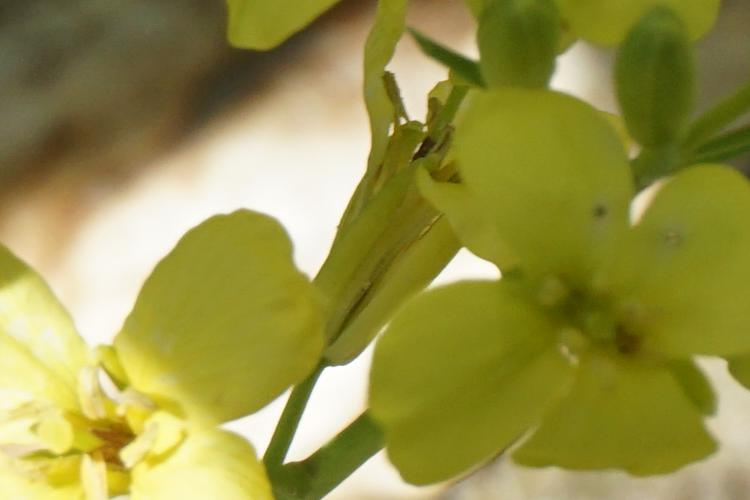bud: (623, 5, 702, 149), (476, 12, 576, 97)
yellow: (404, 102, 750, 464), (16, 255, 316, 500), (330, 98, 489, 343)
